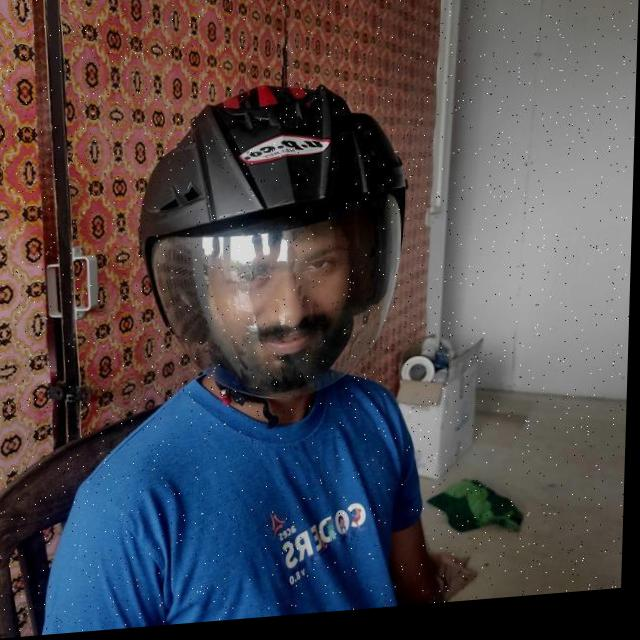helmet: (132, 79, 414, 442)
